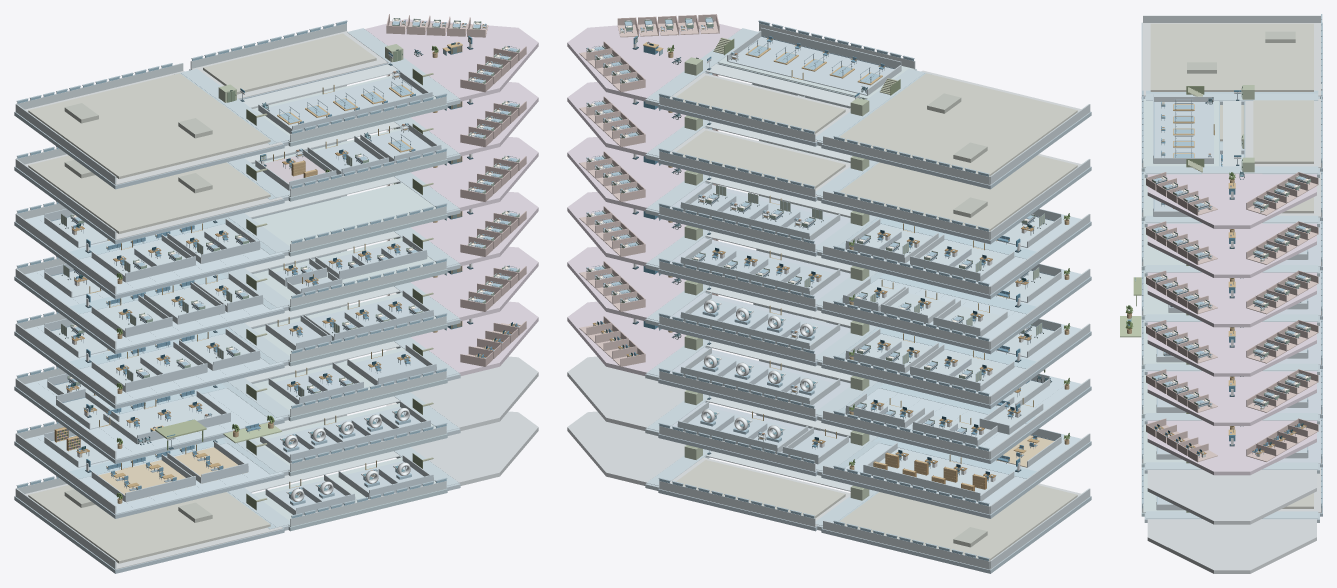
File: hospital-public-floors.glb
3 renders of one model, left to right at view 1: azimuth 30°, elevation 25°; view 2: azimuth 150°, elevation 25°; view 3: azimuth 270°, elevation 25°, orthographic. The views are drawn at different scales.
Parts seen in each view (by area): view 1: Unspecified footprint in guide (×4), Ward A schematic polygonal footprint (×8), Schematic room floor (×22), Outpatient clinic (×5), Outpatient floor plate (×8), 4F — Specialist care & surgery, 7F — Cardiac rehabilitation, Cross-building passage (×8), 3F — Specialist care, Optional facade bands (×8), Central Clinical Building 2 plate (×8), 1F — Welcome & outpatient care (+6 smaller); view 2: Unspecified footprint in guide (×6), Ward A schematic polygonal footprint (×8), Schematic room floor (×13), Outpatient floor plate (×8), Outpatient clinic (×5), Cross-building passage (×8), Optional facade bands (×8), 7F — Cardiac rehabilitation, 3F — Specialist care, 4F — Specialist care & surgery, 2F — Consultation & diagnostics, Rear partition (×7) (+6 smaller); view 3: Ward A schematic polygonal footprint (×8), Unspecified footprint in guide (×4), 7F — Cardiac rehabilitation, Schematic room floor, Ward A concept room N5 (×6), 4F — Specialist care & surgery, 3F — Specialist care, B1 — Diagnostics & daily life, 1F — Welcome & outpatient care, 2F — Consultation & diagnostics, B3 — Radiotherapy, 6F — Library & rehabilitation (+7 smaller).
Boxes of the visible parts, x1=… form: Unspecified footprint in guide (×4): x1=28, y1=33, x2=376, y2=563; Ward A schematic polygonal footprint (×8): x1=365, y1=19, x2=538, y2=485; Schematic room floor (×22): x1=52, y1=77, x2=431, y2=500; Outpatient clinic (×5): x1=16, y1=214, x2=282, y2=514; Outpatient floor plate (×8): x1=14, y1=71, x2=284, y2=573; 4F — Specialist care & surgery: x1=15, y1=140, x2=459, y2=293; 7F — Cardiac rehabilitation: x1=15, y1=23, x2=458, y2=184; Cross-building passage (×8): x1=243, y1=64, x2=400, y2=492; 3F — Specialist care: x1=15, y1=195, x2=458, y2=348; Optional facade bands (×8): x1=16, y1=20, x2=447, y2=518; Central Clinical Building 2 plate (×8): x1=288, y1=104, x2=447, y2=531; 1F — Welcome & outpatient care: x1=15, y1=304, x2=458, y2=458; Unspecified footprint in guide (×6): x1=676, y1=73, x2=1077, y2=560; Ward A schematic polygonal footprint (×8): x1=567, y1=19, x2=740, y2=485; Schematic room floor (×13): x1=688, y1=37, x2=1054, y2=494; Outpatient floor plate (×8): x1=821, y1=71, x2=1091, y2=573; Outpatient clinic (×5): x1=823, y1=214, x2=1089, y2=514; Cross-building passage (×8): x1=705, y1=64, x2=854, y2=491; Optional facade bands (×8): x1=658, y1=20, x2=989, y2=560; 7F — Cardiac rehabilitation: x1=647, y1=23, x2=1090, y2=184; 3F — Specialist care: x1=647, y1=195, x2=1090, y2=349; 4F — Specialist care & surgery: x1=646, y1=140, x2=1090, y2=294; 2F — Consultation & diagnostics: x1=647, y1=284, x2=1090, y2=404; Rear partition (×7): x1=678, y1=27, x2=980, y2=501; Ward A schematic polygonal footprint (×8): x1=1147, y1=173, x2=1316, y2=573; Unspecified footprint in guide (×4): x1=1150, y1=23, x2=1313, y2=508; 7F — Cardiac rehabilitation: x1=1142, y1=15, x2=1322, y2=173; Schematic room floor: x1=1154, y1=102, x2=1213, y2=157; Ward A concept room N5 (×6): x1=1246, y1=197, x2=1276, y2=461; 4F — Specialist care & surgery: x1=1142, y1=221, x2=1322, y2=272; 3F — Specialist care: x1=1142, y1=270, x2=1322, y2=321; B1 — Diagnostics & daily life: x1=1142, y1=418, x2=1322, y2=469; 1F — Welcome & outpatient care: x1=1136, y1=295, x2=1322, y2=420; 2F — Consultation & diagnostics: x1=1142, y1=319, x2=1322, y2=370; B3 — Radiotherapy: x1=1142, y1=467, x2=1322, y2=518; 6F — Library & rehabilitation: x1=1142, y1=141, x2=1322, y2=222.
Size of the model in its own units: 79.5 by 65.76 by 33.55.
